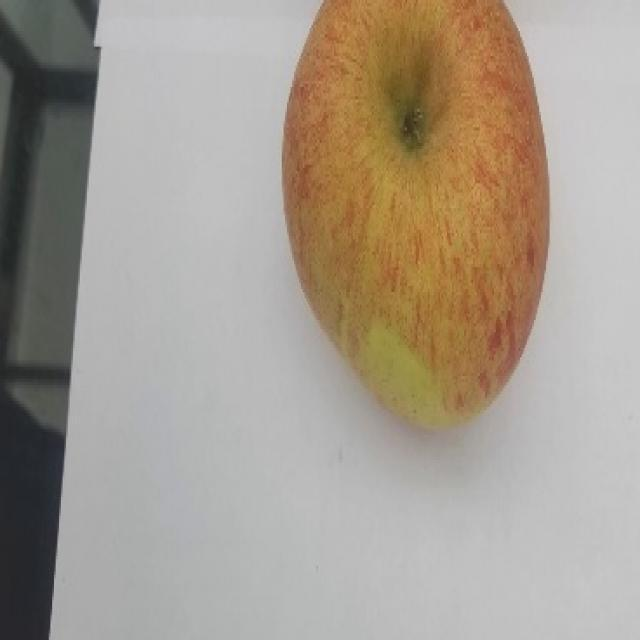Apple: (280, 0, 551, 431)
